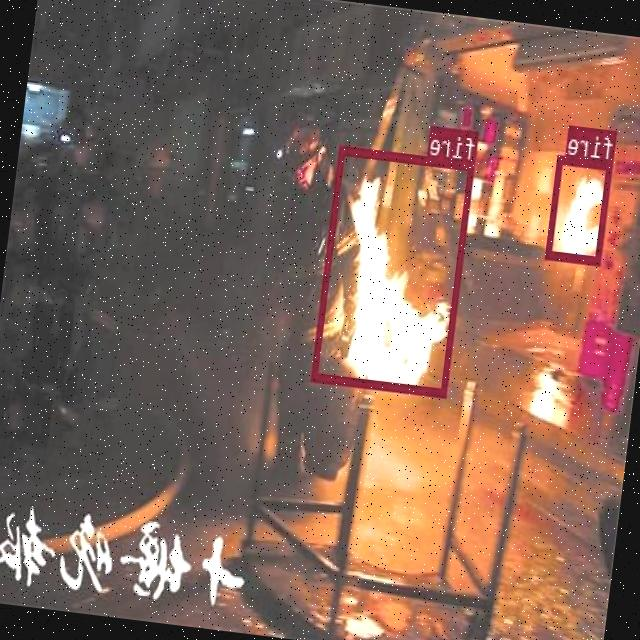fire: (312, 144, 476, 395), (546, 153, 614, 264)
